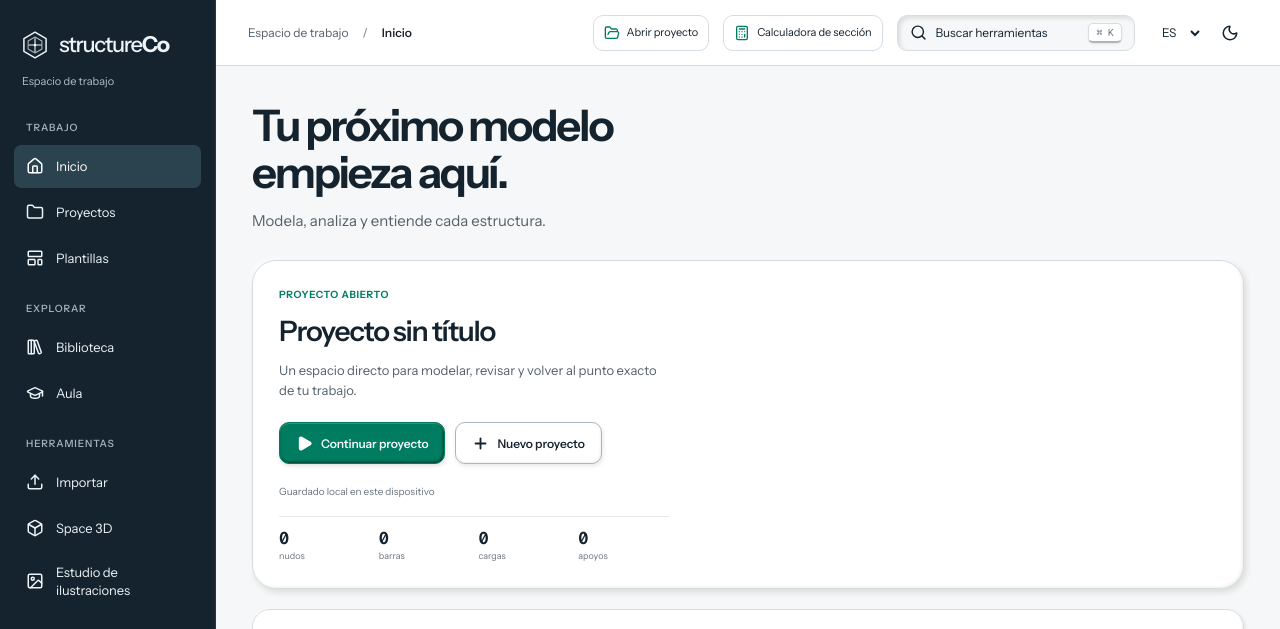
Test: Studio Home workflows › combines family and text filters and recovers from no matches
This screenshot has width=1280, height=629.
Click the button "Plantillas": (108, 258) [14,236,201,280]
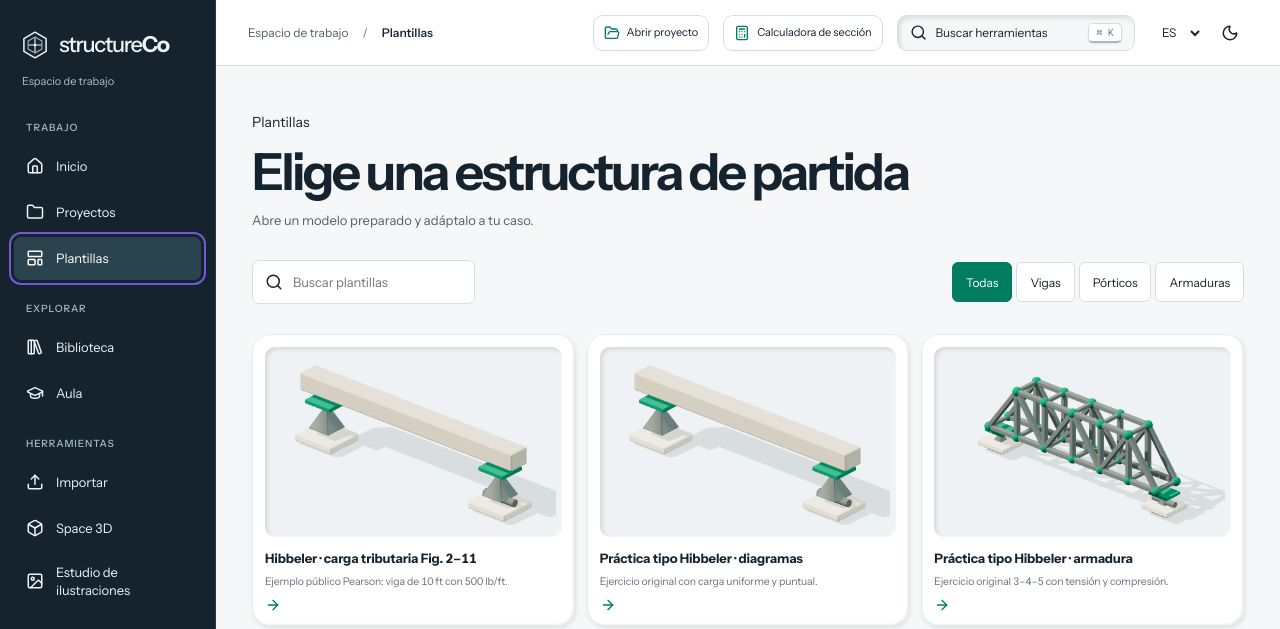
Click the button "Vigas": (1046, 282) [1016,262,1075,302]
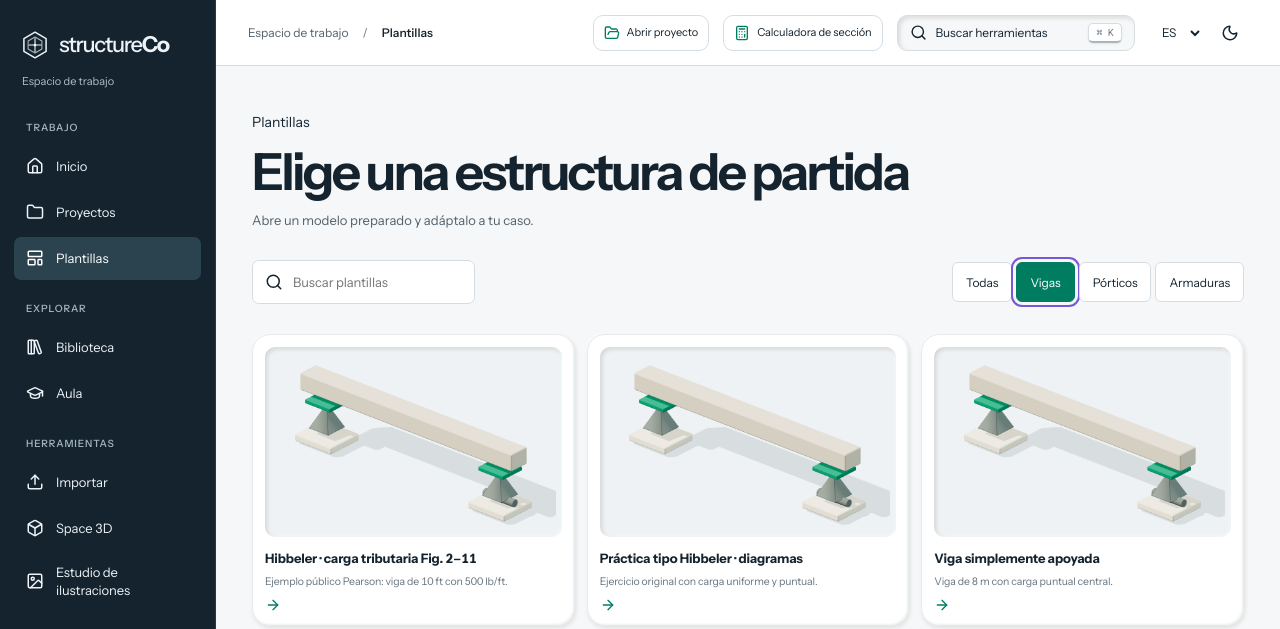
Check: the number of buttons with class "welcome-template-card" is 3, box [252,334,575,626]; [587,334,909,626]; [921,334,1244,626]
In the field labelled "Buscar plantillas": (378, 282) [293,264,462,300], type "imposible"
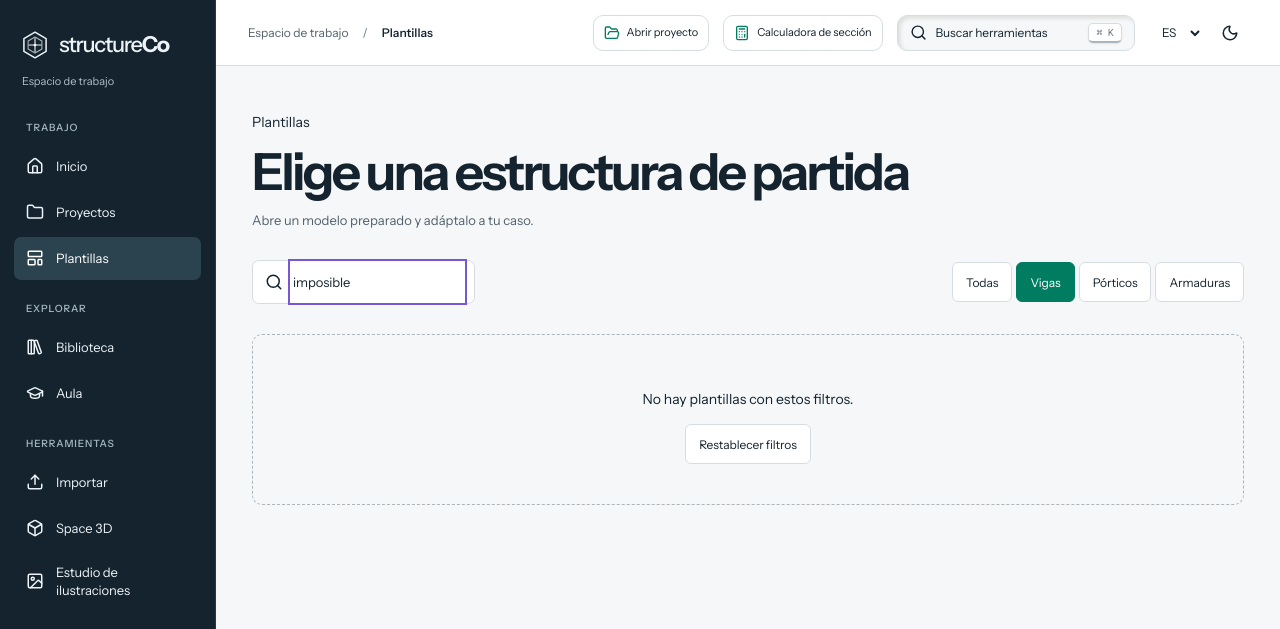
Check: no buttons with class "welcome-template-card" are shown
Click the button "Restablecer filtros": (748, 444) [685,424,811,464]
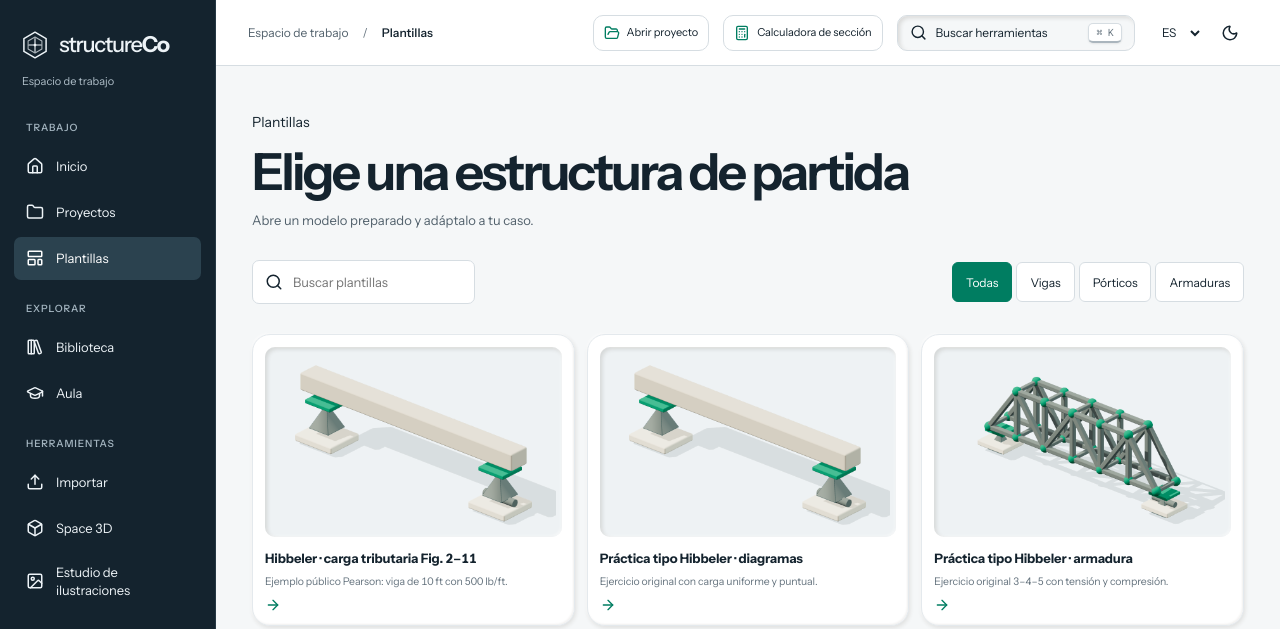
Check: the number of buttons with class "welcome-template-card" is 6
Click the button "Pórticos": (1115, 282) [1079,262,1151,302]
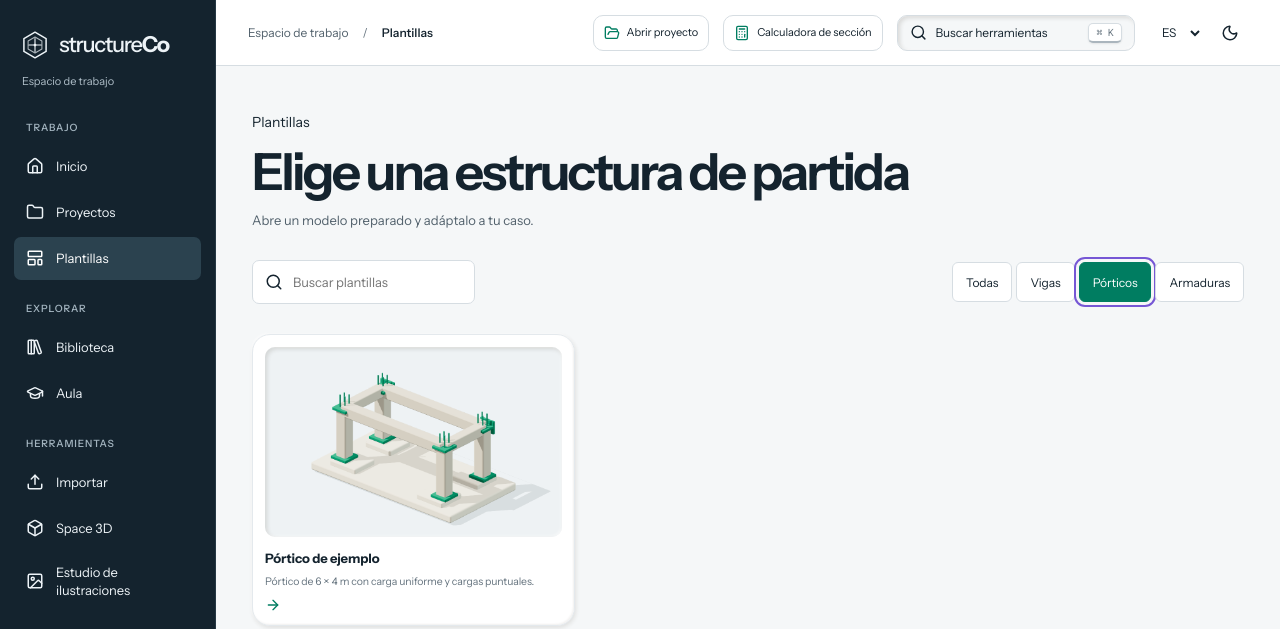
Check: the number of buttons with class "welcome-template-card" is 1, box [252,334,575,626]
